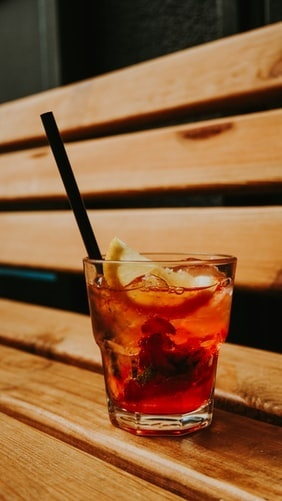whiskey: (87, 256, 242, 424)
